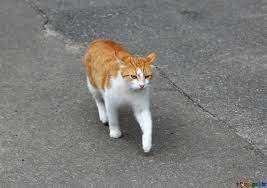cat: (84, 38, 156, 154)
